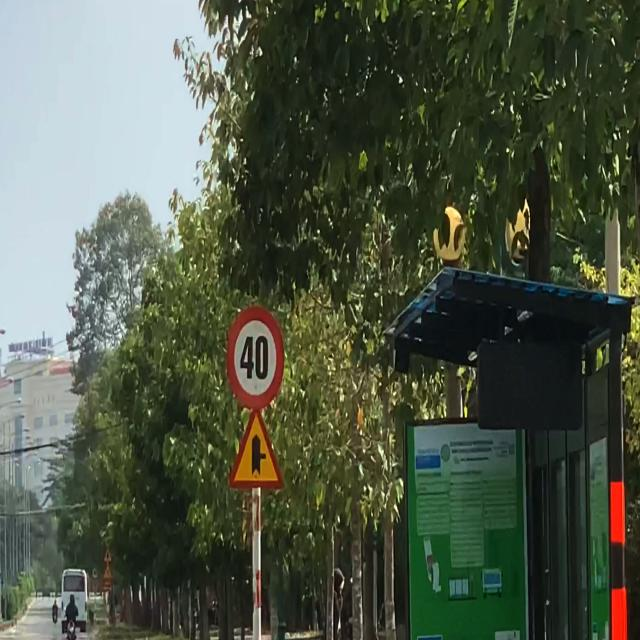Giao voi duong khong uu tien: (228, 406, 285, 492)
Toc do toi da: (225, 305, 286, 407)
